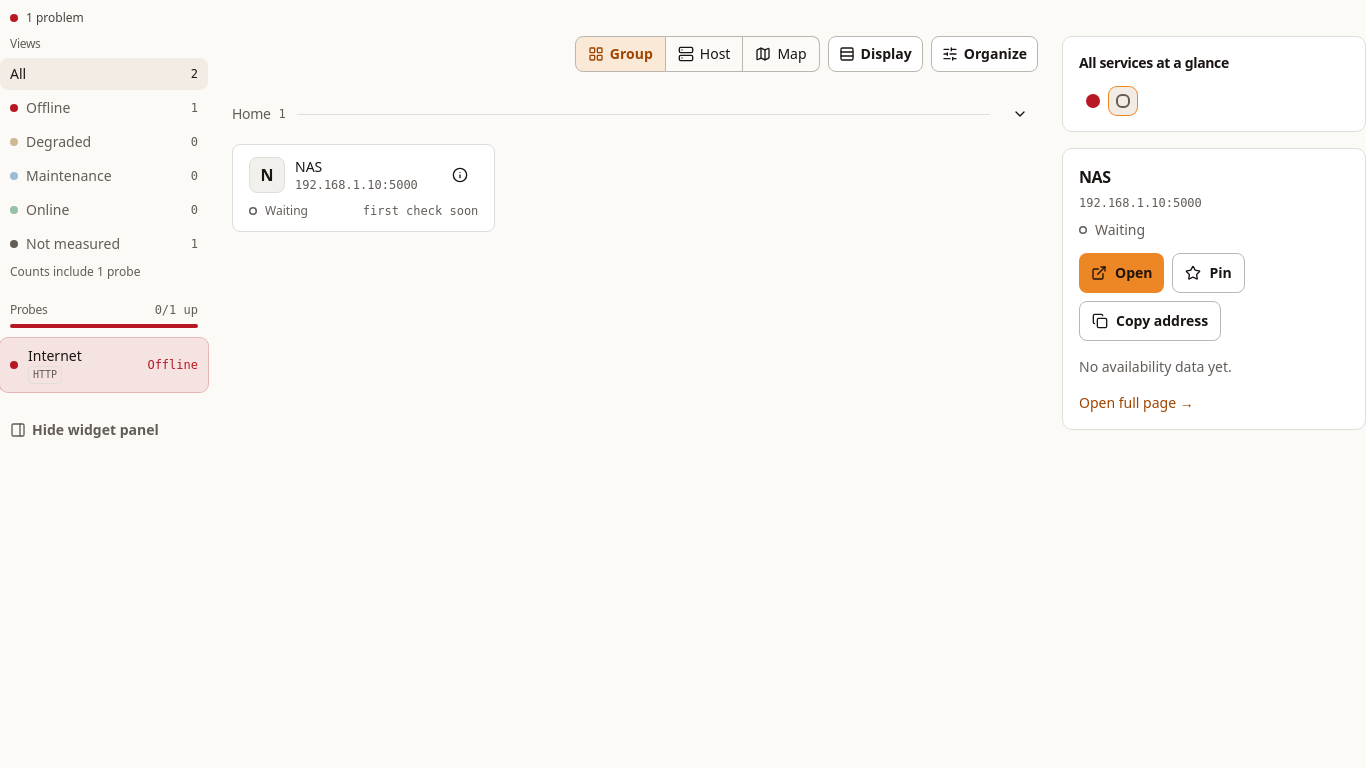
Scenario: shows probes on the Home at any width and lists a probe that is down in Needs attention
Check: the element "Probes" shows "Internet", box [0,338,208,392]
Check: the element "Probes" shows "Offline", box [0,338,208,392]
Note: The causes live in the header pill's popover, not on the page.
What coordinates should you click on to do the following:
click the button with aria-label "Health: 1 problem"
I would click on:
 (47, 18)
Its box is [0,0,94,36].
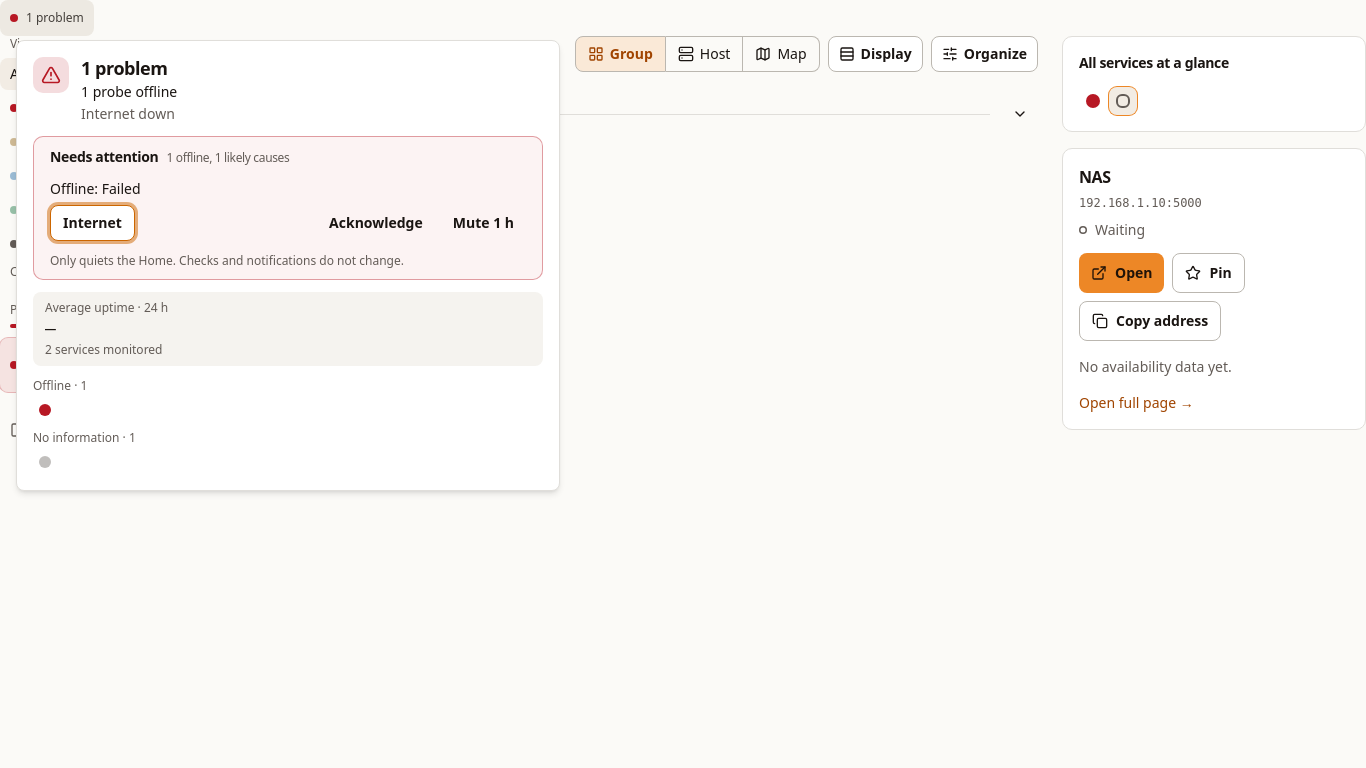
Check: the element "Needs attention" is shown, box [33,136,543,280]
